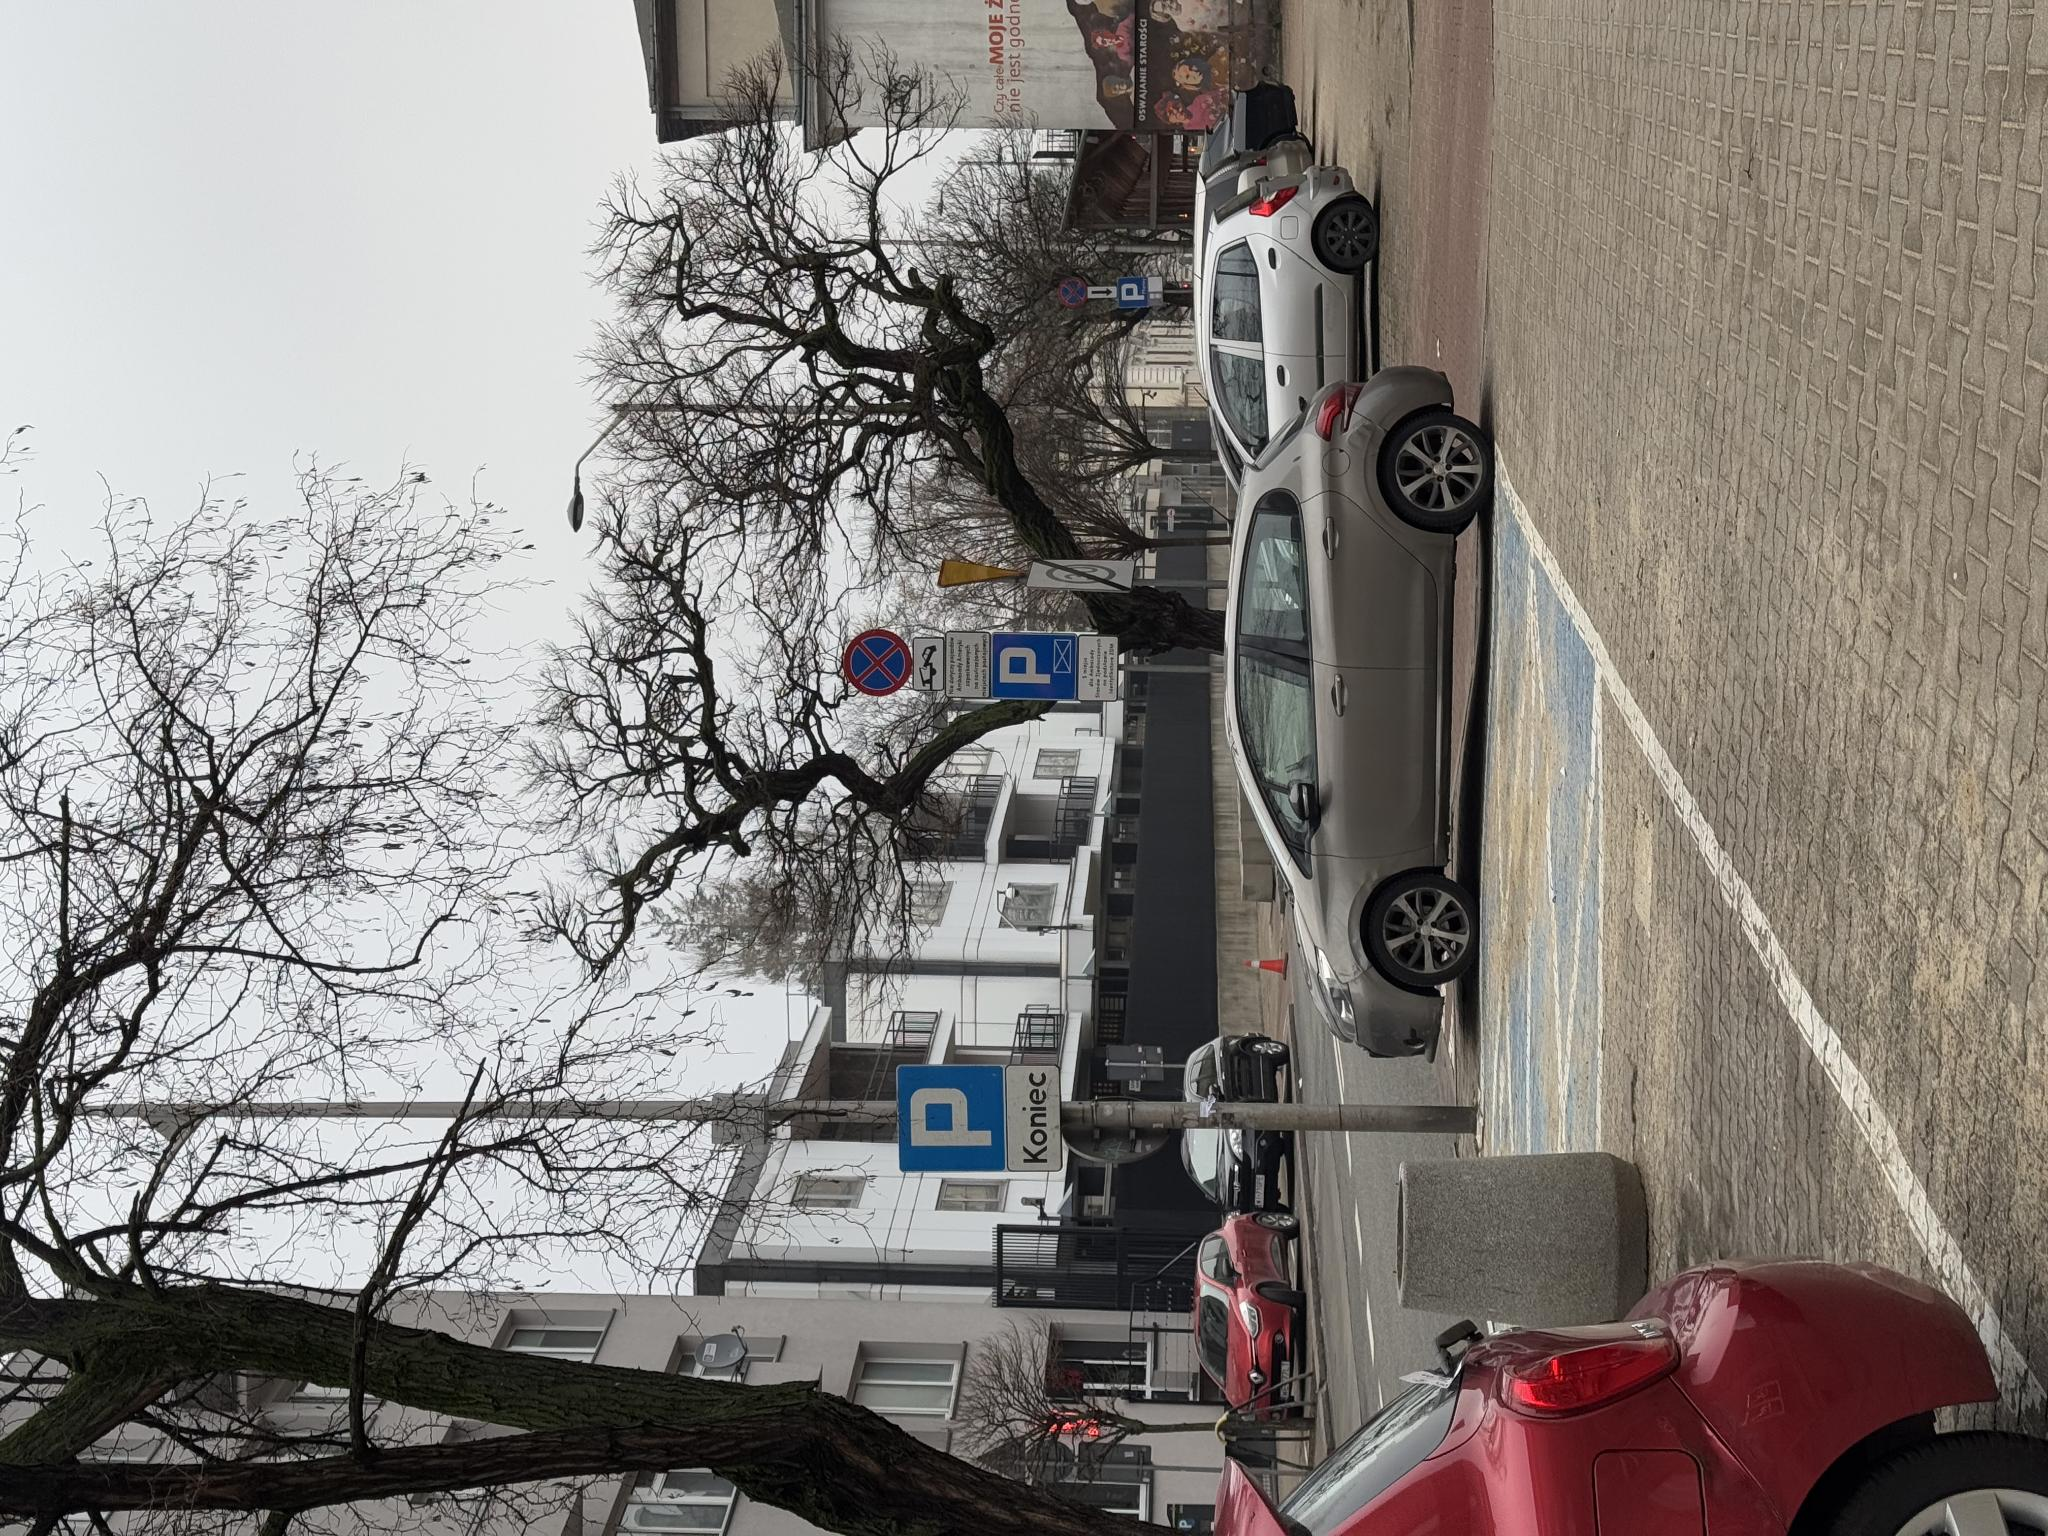information: (363, 899, 472, 1005), (835, 991, 905, 1078), (1229, 1117, 1259, 1149)
other: (363, 1007, 476, 1060), (837, 945, 905, 991), (835, 1078, 901, 1120), (845, 913, 898, 944), (1232, 1149, 1261, 1163), (1238, 1087, 1250, 1117)
prohibitory: (839, 842, 906, 912), (951, 1046, 972, 1117), (1229, 1057, 1259, 1087)
warning: (948, 936, 979, 1026)
